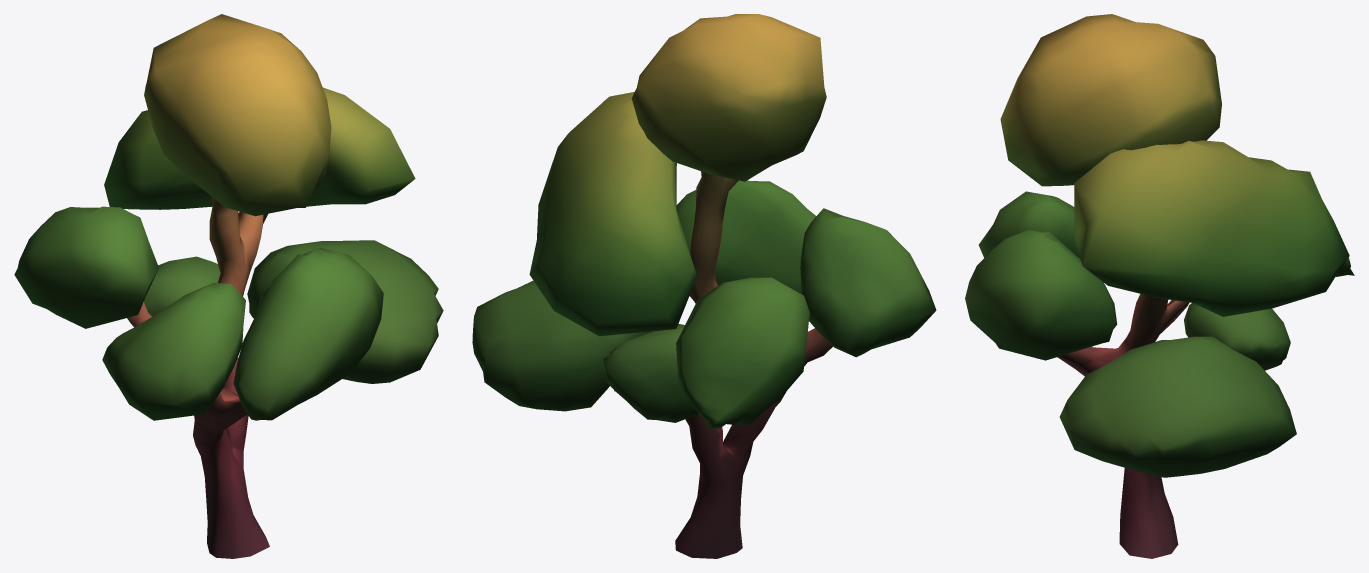
Rendered from GEO_arvore.fbx.
3 renders of one model, left to right at view 1: azimuth 30°, elevation 25°; view 2: azimuth 150°, elevation 25°; view 3: azimuth 270°, elevation 25°, orthographic. The views are drawn at different scales.
Visible parts, largest first — view 1: GEO_arvore; view 2: GEO_arvore; view 3: GEO_arvore.
Part boxes in pixels (bbox=[...]): GEO_arvore: bbox=[14, 14, 443, 558]; GEO_arvore: bbox=[472, 14, 936, 558]; GEO_arvore: bbox=[965, 14, 1354, 558].
Size of the model in its own units: 569 by 756 by 520.
1 material, 1 textured.
